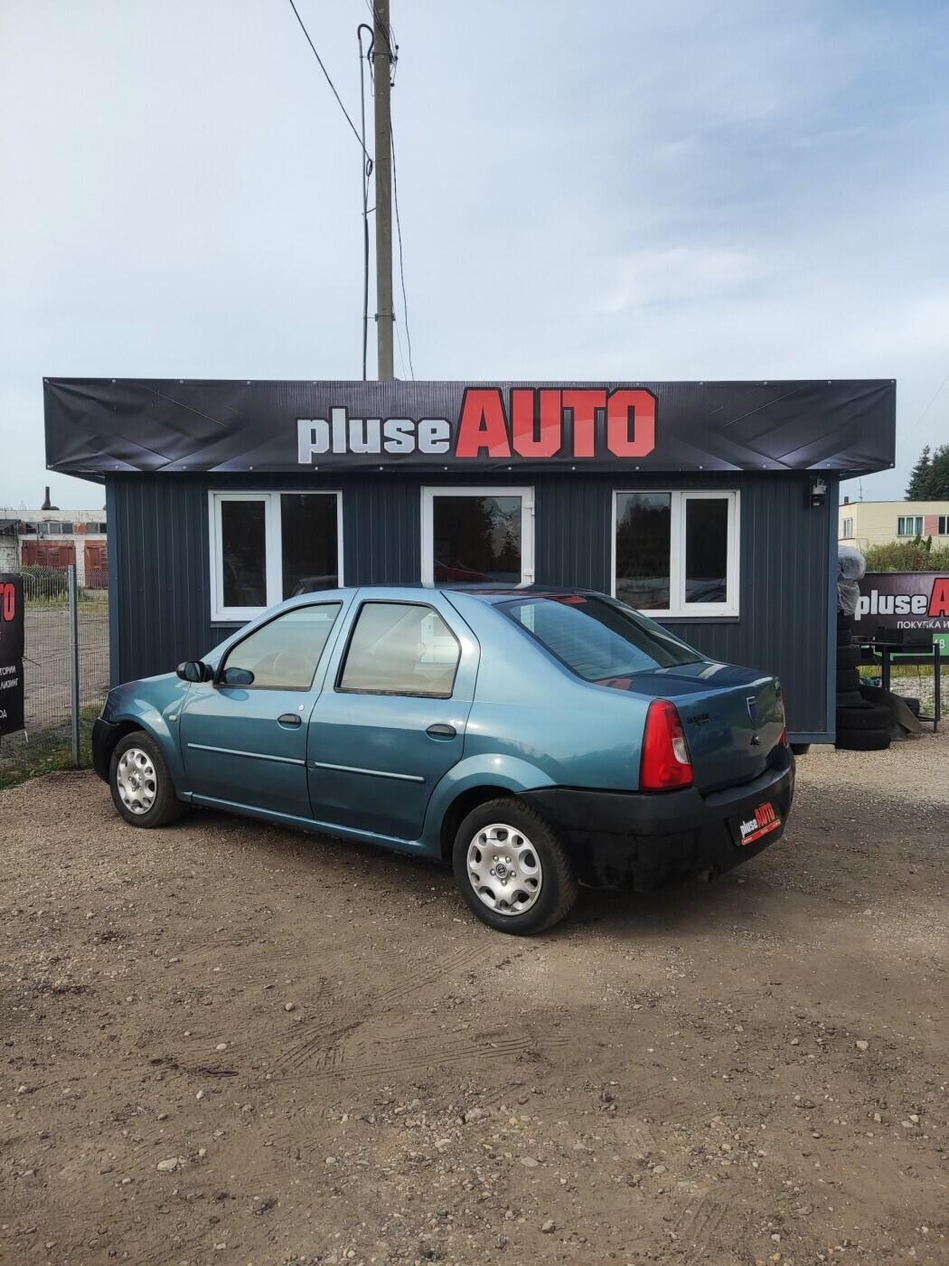Logan_2004-2009: (92, 584, 801, 940)
